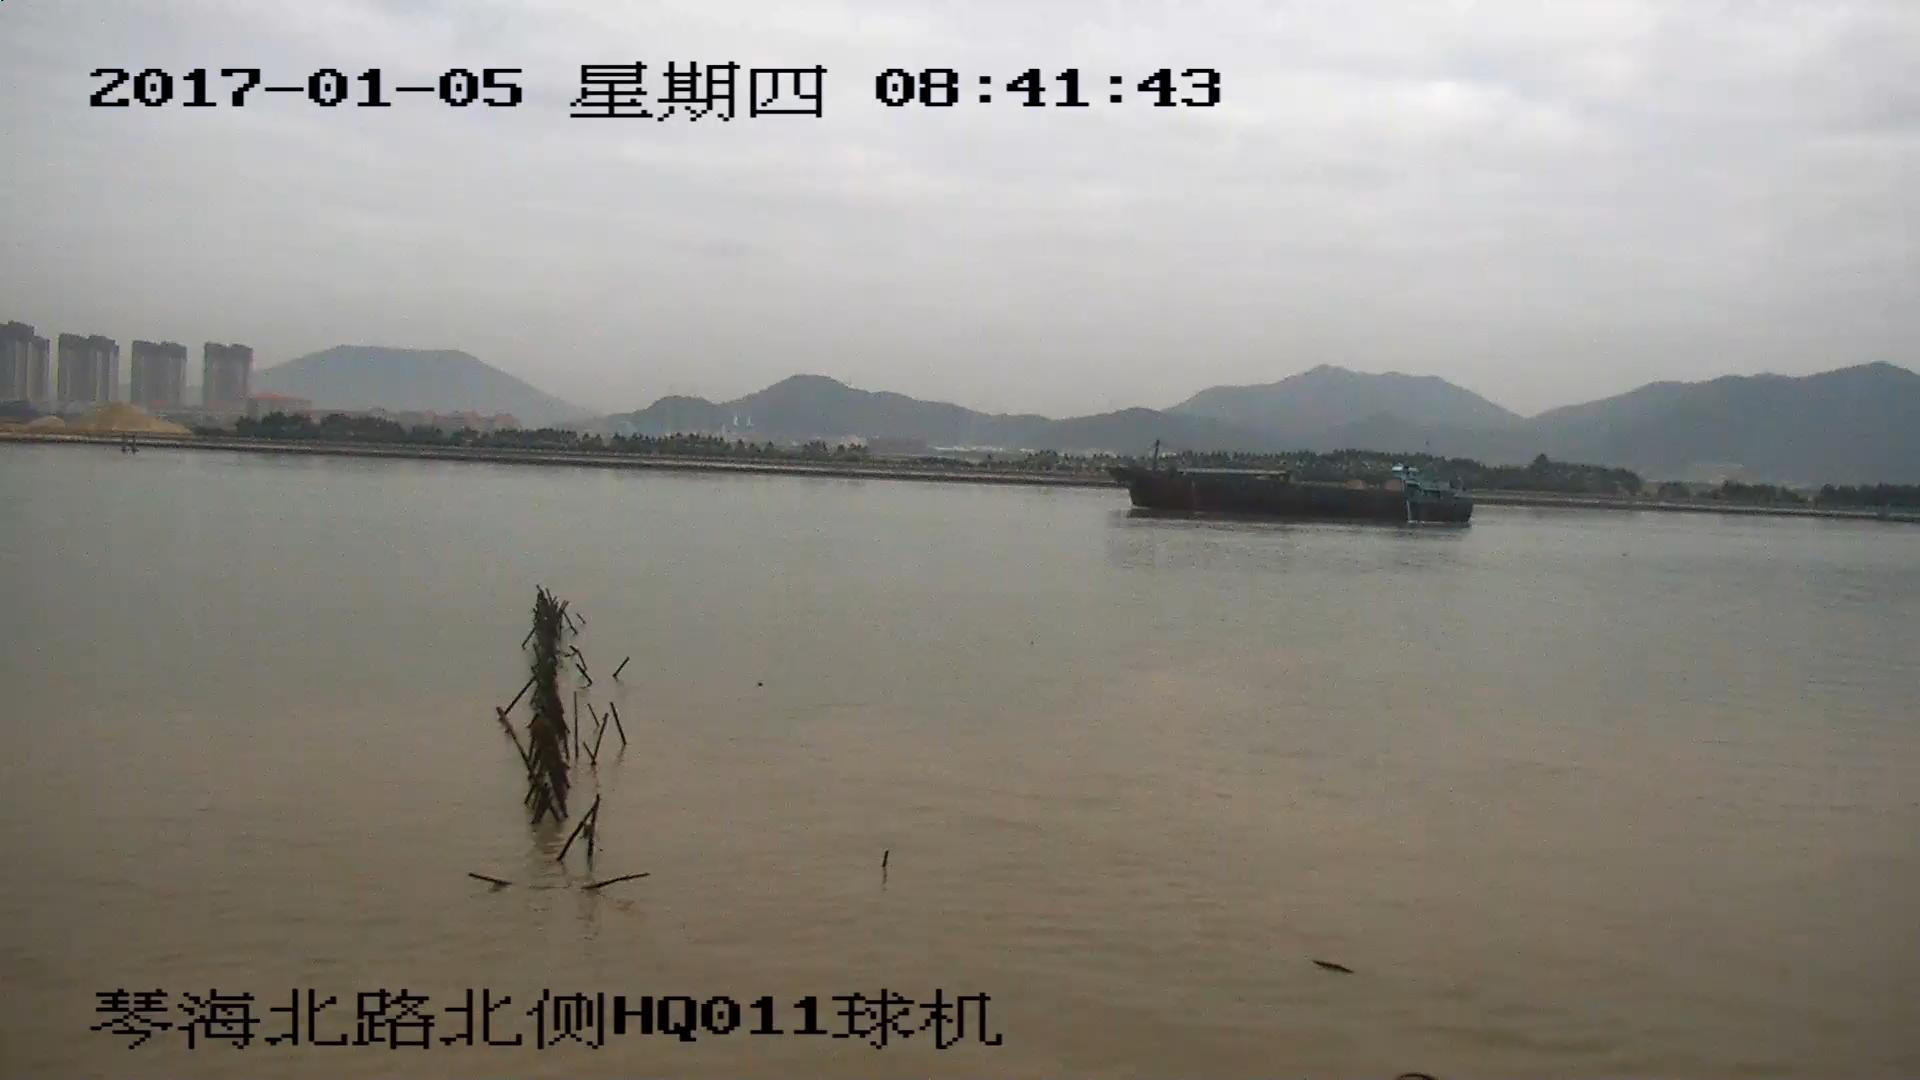bulk cargo carrier: (1112, 442, 1470, 524)
